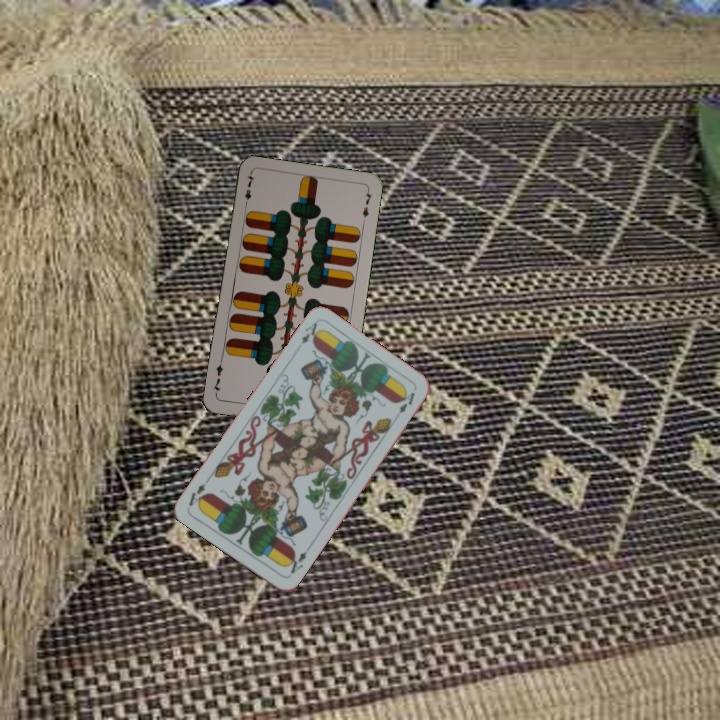E7: (241, 170, 257, 211)
EA: (282, 547, 309, 576), (297, 318, 323, 346)
